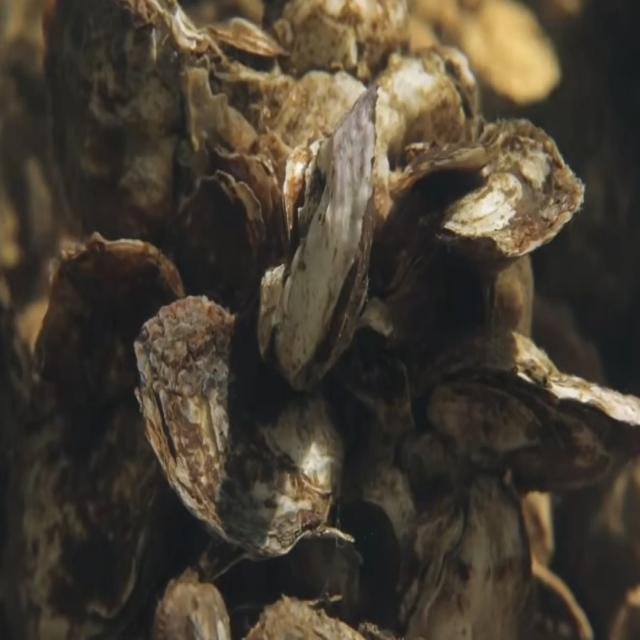Oyster-Closed: (28, 230, 188, 640), (409, 328, 640, 502), (254, 81, 380, 395), (375, 120, 587, 304), (387, 473, 535, 640)
Oyster-Indeterminate: (130, 293, 354, 560), (46, 1, 224, 262), (174, 169, 265, 323)
Oyster-Open: (207, 526, 354, 614)
